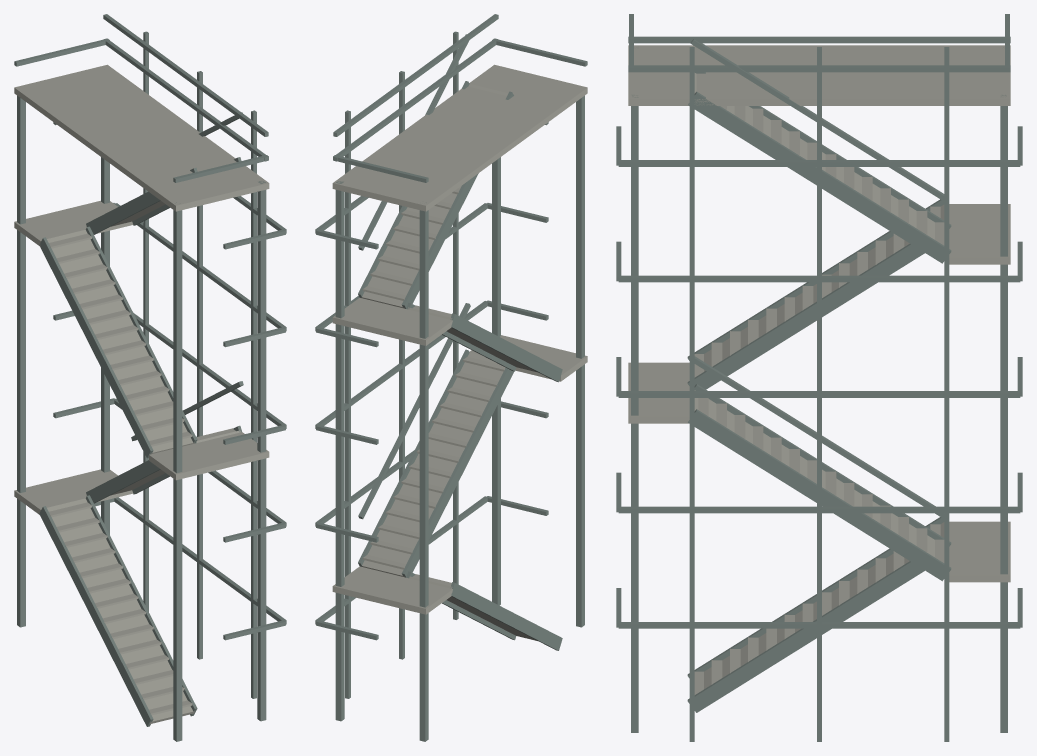
File: SM_EscaleraAzotea_v1_Jaula_LOD0.fbx
3 views of the same model, side by side, from view 1: azimuth 30°, elevation 25°; view 2: azimuth 150°, elevation 25°; view 3: azimuth 270°, elevation 25° (orthographic). The views are drawn at different scales.
Parts seen in each view (by area): view 1: SM_escalera_azotea_v1_LOD0; view 2: SM_escalera_azotea_v1_LOD0; view 3: SM_escalera_azotea_v1_LOD0.
Part boxes in pixels (x1,y1,x2,y2): SM_escalera_azotea_v1_LOD0: [14, 14, 286, 741]; SM_escalera_azotea_v1_LOD0: [315, 14, 587, 741]; SM_escalera_azotea_v1_LOD0: [616, 14, 1022, 741].
Size of the model in its own units: 2.29 by 12.14 by 6.38.
